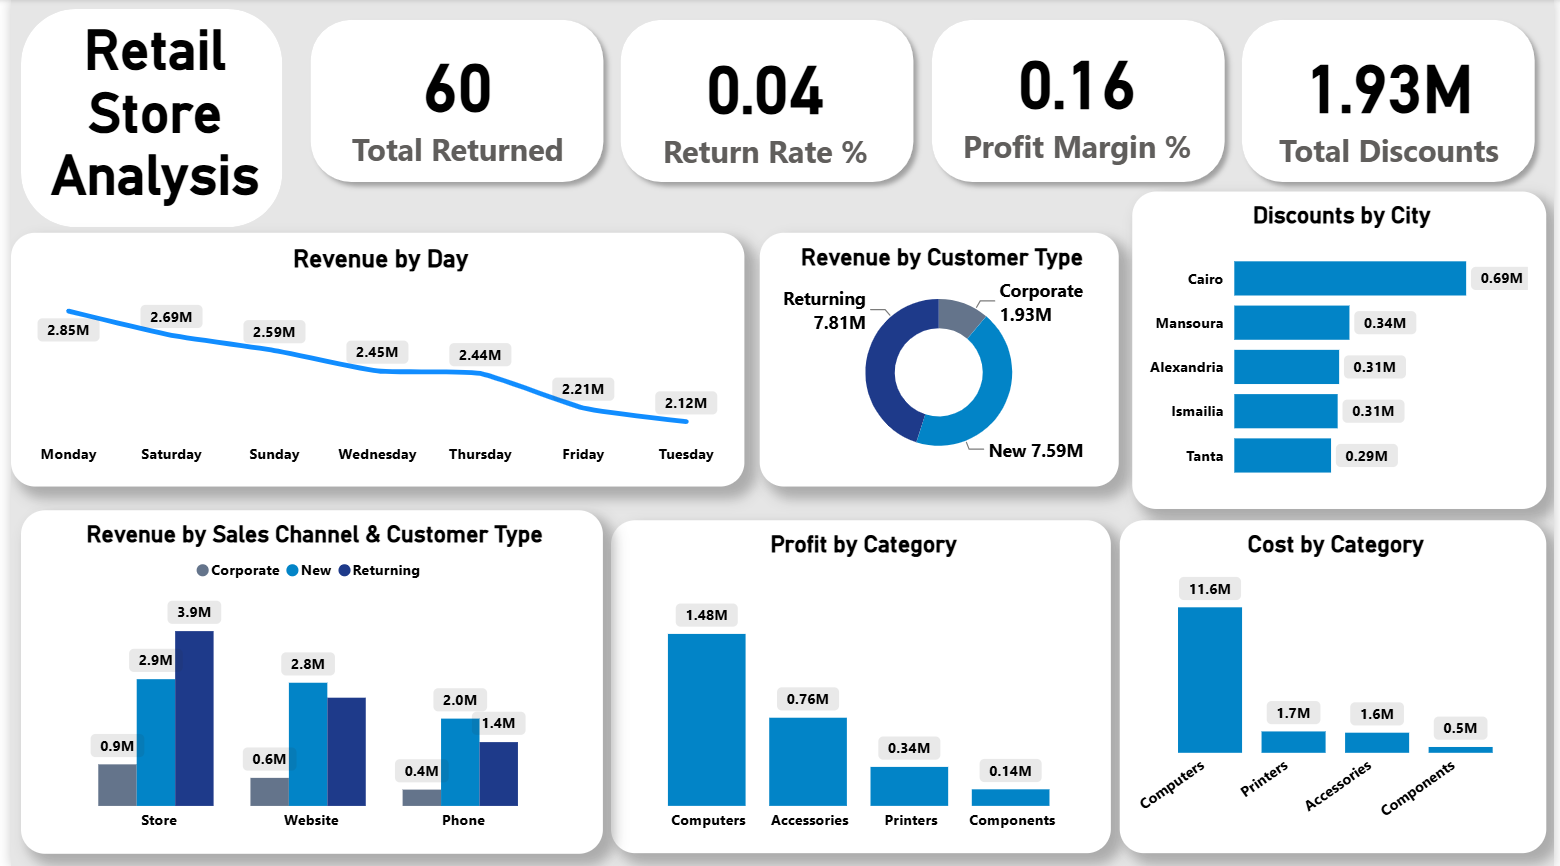

This screenshot's page, from the dashboard's own definition file:
{"tool":"powerbi","page":{"name":"Financial Analysis","canvas":[1280,720],"ordinal":1},"visuals":[{"type":"shape","box":[496.8,8.3,260.7,152.4],"z":0},{"type":"shape","box":[239.3,8.3,260.7,152.4],"z":1000},{"type":"shape","box":[8.3,8.3,216.7,181],"z":2000},{"type":"textbox","title":"Retail Store Analysis","box":[0,15.5,239.3,189.3],"z":3000},{"type":"card","fields":{"Values":["Measures (2).Total Returned"]},"box":[251.2,0,239.3,167.9],"z":4000},{"type":"shape","box":[1011.9,8.3,260.7,152.4],"z":5000},{"type":"shape","box":[754.4,8.3,260.7,152.4],"z":6000},{"type":"card","fields":{"Values":["Measures (2).Return Rate %"]},"box":[506,0,239.3,171.4],"z":7000},{"type":"card","fields":{"Values":["Measures (2).Profit Margin %"]},"box":[760.7,0,246.4,163.1],"z":8000},{"type":"card","fields":{"Values":["Measures (2).Total Discounts Given"]},"box":[1022.6,0,239.3,169],"z":9000},{"type":"columnChart","title":"Profit by Category","fields":{"Category":["data_detective_sales_training.Category"],"Y":["Measures (2).Total Profit"]},"box":[497.6,432.1,414.3,276.2],"z":10000},{"type":"lineChart","title":"Total Revenue by Day","fields":{"Category":["data_detective_sales_training.Day"],"Y":["Measures (2).Total Revenue"]},"box":[0,194,608.3,210.7],"z":11000},{"type":"clusteredColumnChart","title":"Revenue by Sales Channel & Customer Type","fields":{"Y":["Measures (2).Total Revenue"],"Series":["data_detective_sales_training.Customer_Type"],"Category":["data_detective_sales_training.Sales_Channel"]},"box":[8.3,423.8,482.1,284.5],"z":12000},{"type":"donutChart","title":"Revenue by Customer Type","fields":{"Y":["Measures (2).Total Revenue"],"Series":["data_detective_sales_training.Customer_Type"]},"box":[620.2,194,297.6,210.7],"z":13000},{"type":"barChart","title":"Discounts by City","fields":{"Y":["Measures (2).Total Discounts"],"Category":["data_detective_sales_training.Branch"]},"box":[929.8,159.5,342.9,263.1],"z":14000},{"type":"columnChart","title":"Cost by Category","fields":{"Category":["data_detective_sales_training.Category"],"Y":["Measures (2).Total Costs"]},"box":[919.1,432.1,353.6,276.2],"z":15000}]}

Visuals, with their boxes in screenshot pixels (x1, y1, x2, y2), scaled from the page's 1280x720 canvas onto the 1560x866 screenshot:
shape: detection(605, 10, 923, 193)
shape: detection(292, 10, 609, 193)
shape: detection(10, 10, 274, 228)
"Retail Store Analysis" textbox: detection(0, 19, 292, 246)
card - Measures (2).Total Returned: detection(306, 0, 598, 202)
shape: detection(1233, 10, 1551, 193)
shape: detection(919, 10, 1237, 193)
card - Measures (2).Return Rate %: detection(617, 0, 908, 206)
card - Measures (2).Profit Margin %: detection(927, 0, 1227, 196)
card - Measures (2).Total Discounts Given: detection(1246, 0, 1538, 203)
"Profit by Category" columnChart: detection(606, 520, 1111, 852)
"Total Revenue by Day" lineChart: detection(0, 233, 741, 487)
"Revenue by Sales Channel & Customer Type" clusteredColumnChart: detection(10, 510, 598, 852)
"Revenue by Customer Type" donutChart: detection(756, 233, 1119, 487)
"Discounts by City" barChart: detection(1133, 192, 1551, 508)
"Cost by Category" columnChart: detection(1120, 520, 1551, 852)
